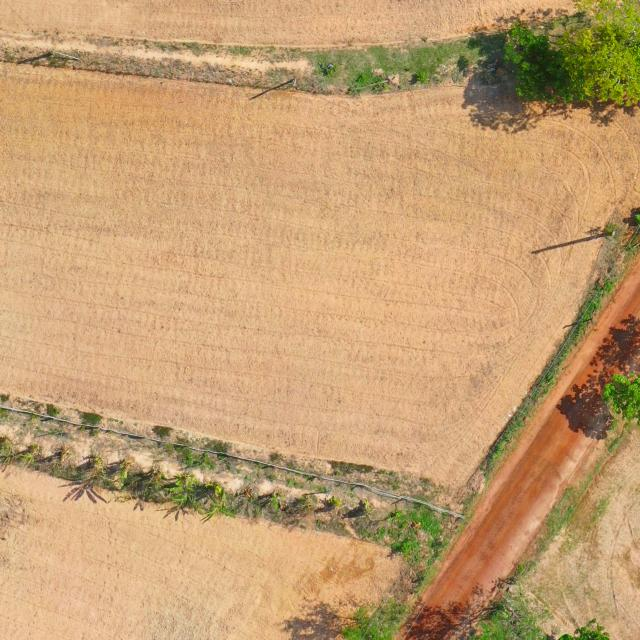Tree: (557, 0, 640, 114), (498, 20, 587, 105), (470, 592, 556, 640), (601, 367, 640, 430), (341, 603, 394, 640)
